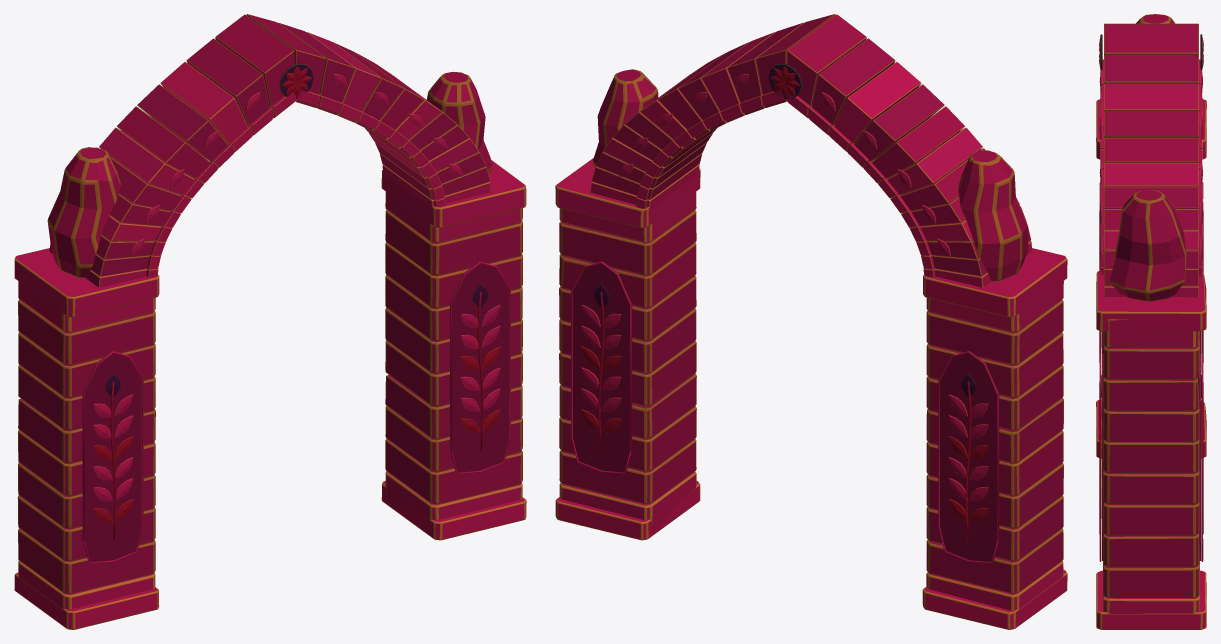
Rendered from SM_RV_Arch.fbx.
3 views of the same model, side by side, from view 1: azimuth 30°, elevation 25°; view 2: azimuth 150°, elevation 25°; view 3: azimuth 270°, elevation 25° (orthographic). The views are drawn at different scales.
Parts seen in each view (by area): view 1: SM_RV_Arch; view 2: SM_RV_Arch; view 3: SM_RV_Arch.
Part boxes in pixels (bbox=[...]): SM_RV_Arch: bbox=[14, 14, 526, 629]; SM_RV_Arch: bbox=[555, 14, 1067, 629]; SM_RV_Arch: bbox=[1096, 14, 1206, 629].
Size of what is drawn, in the model's own units: 161 by 737 by 799.
